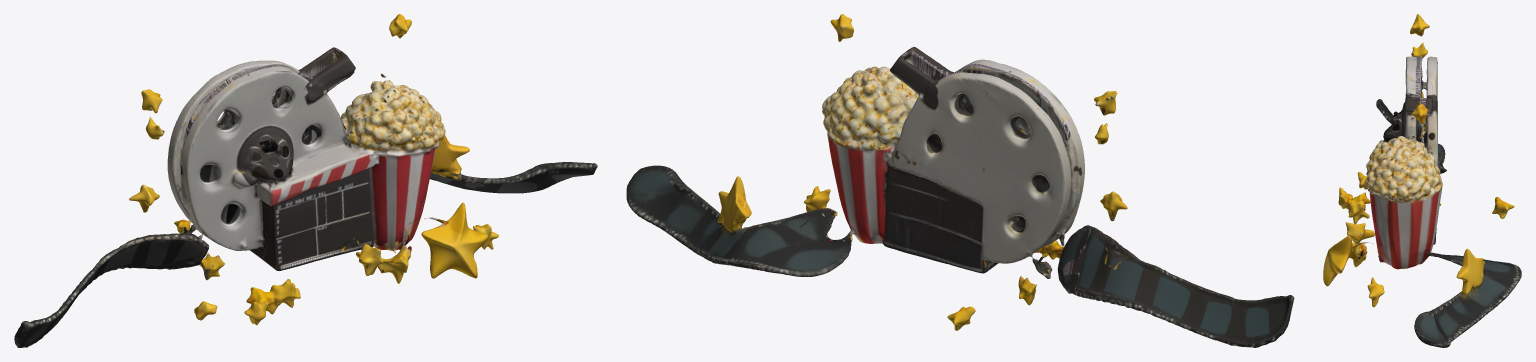
File: movie.glb
3 views of the same model, side by side, from view 1: azimuth 30°, elevation 25°; view 2: azimuth 150°, elevation 25°; view 3: azimuth 270°, elevation 25° (orthographic). The views are drawn at different scales.
Bounding box in the file's own units: 65520 × 24077 × 23797.
Materials: 1 (1 with a texture image).
